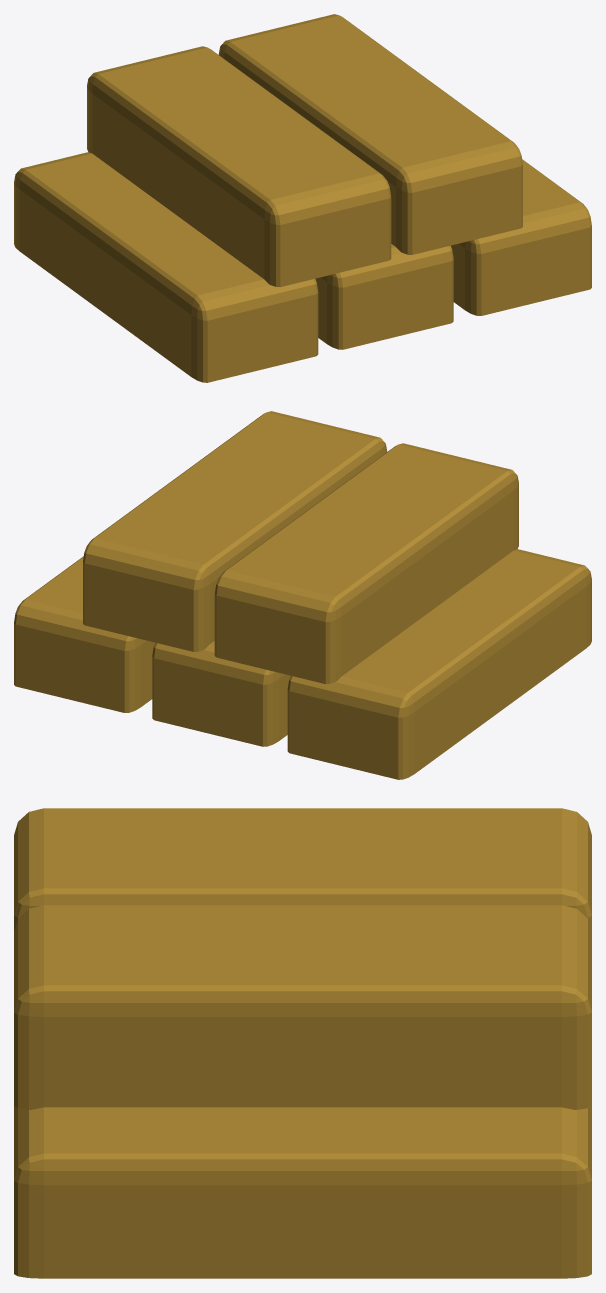
The model's file is Kereste.fbx.
3 views of the same model, one above another, from view 1: azimuth 30°, elevation 25°; view 2: azimuth 150°, elevation 25°; view 3: azimuth 270°, elevation 25° (orthographic). The views are drawn at different scales.
Visible parts, largest first — view 1: Cube.013; view 2: Cube.013; view 3: Cube.013.
Part boxes in pixels (x1,y1,x2,y2): Cube.013: (14, 14, 591, 382); Cube.013: (14, 411, 591, 779); Cube.013: (14, 808, 591, 1278).
Bounding box in the file's own units: 89.98 × 34.36 × 75.63.
